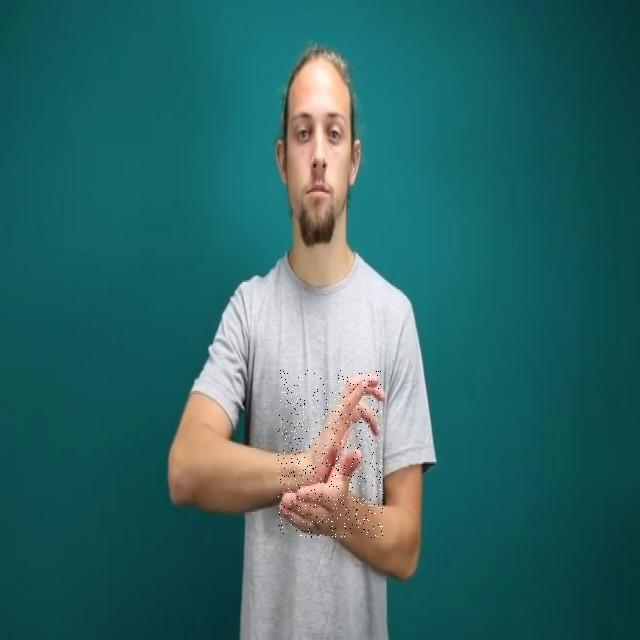cheese: (278, 370, 383, 538)
